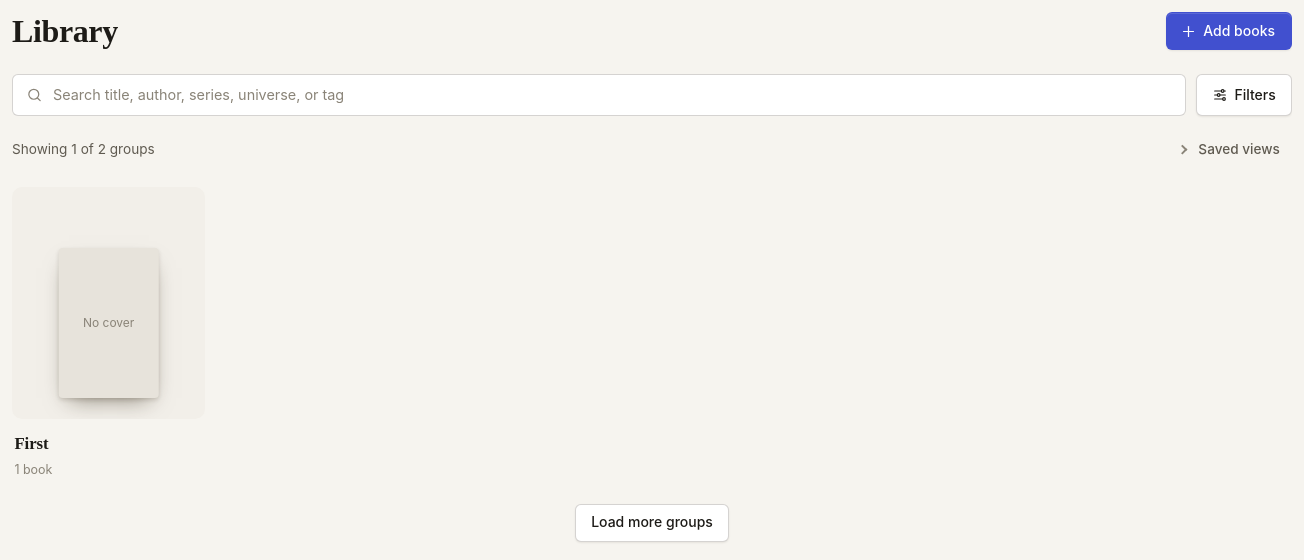
Test case: pages group summaries without discarding earlier groups
Expected: the link "No cover First 1 book" is shown, [12,187,205,480]
Step 1. Click the button "Load more groups" → (652,523), box [575,504,729,542]
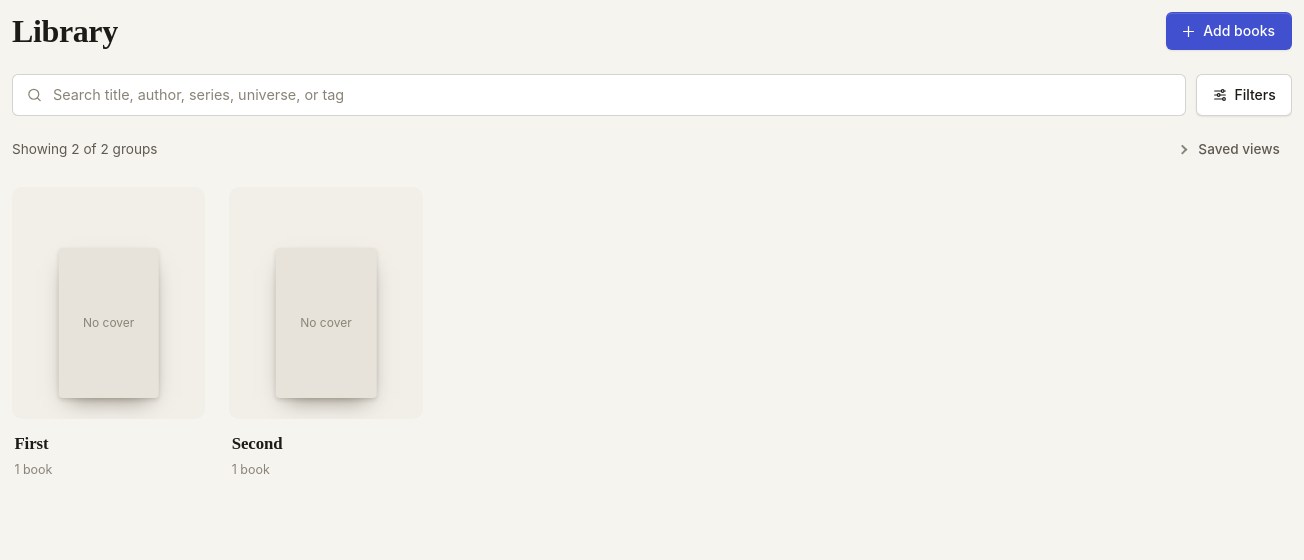
Expected: the link "No cover First 1 book" is shown, [12,187,205,480]
Expected: the link "No cover Second 1 book" is shown, [229,187,423,480]
